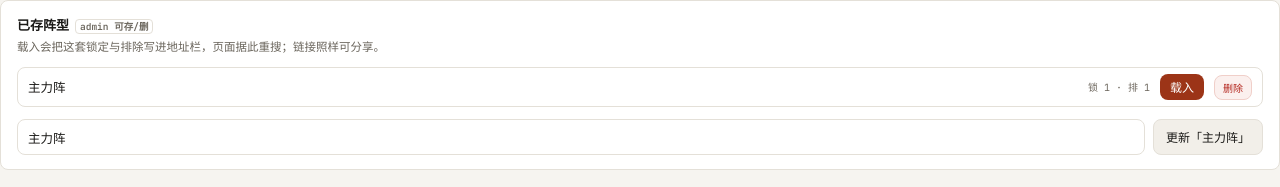
Scenario: Presets load-then-update: name prefill + 更新 label › switches label live: typing a new name → 存为阵型, typing an existing name → 更新
Expected: the button "更新「主力阵」" is shown, left=1153, top=119, right=1263, bottom=155
type a brand-new name → 存为阵型
Replace the text in the field named "阵型名" with "新阵" at (581, 137), box left=17, top=119, right=1145, bottom=155
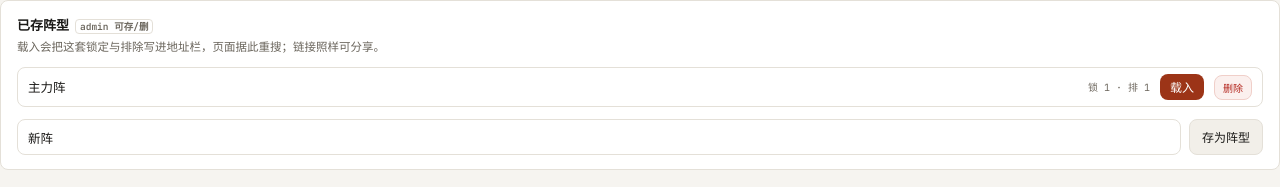
Expected: the button "存为阵型" is shown, left=1189, top=119, right=1263, bottom=155
back to an existing name → 更新
Replace the text in the field named "阵型名" with "主力阵" at (599, 137), box left=17, top=119, right=1181, bottom=155
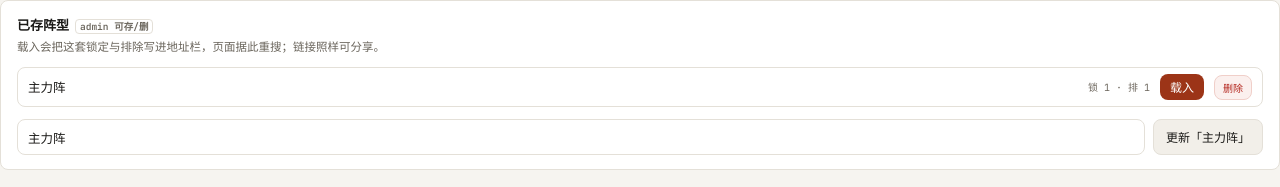
Expected: the button "更新「主力阵」" is shown, left=1153, top=119, right=1263, bottom=155
